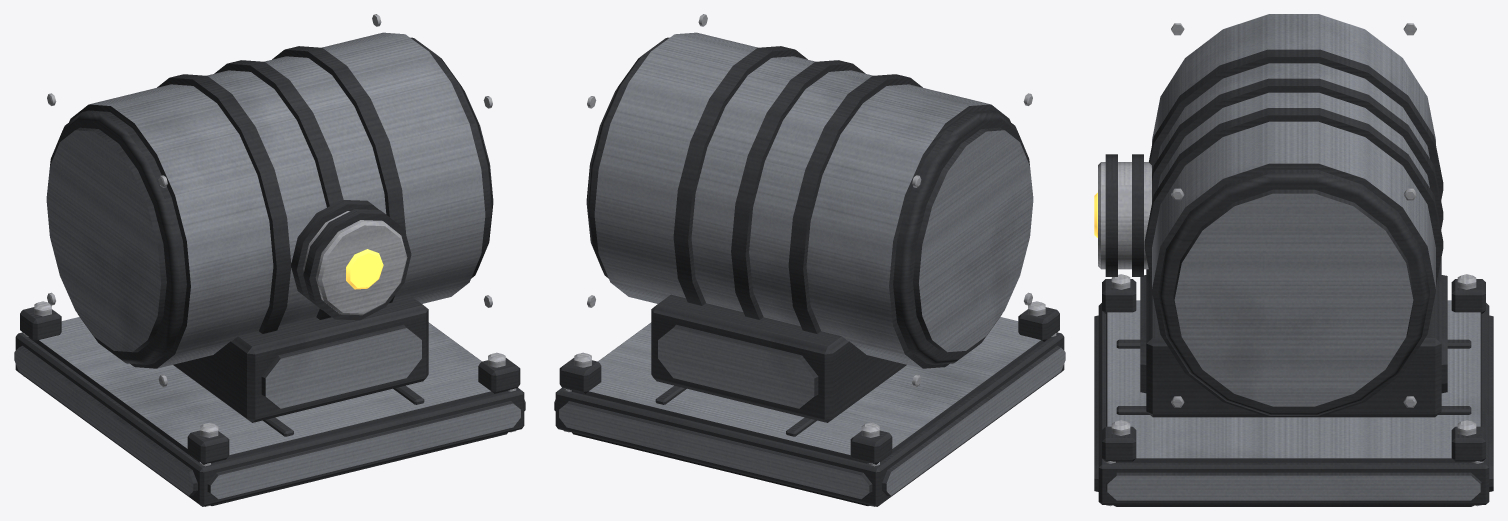
The model's file is R4X_DrivePower.glb.
3 renders of one model, left to right at view 1: azimuth 30°, elevation 25°; view 2: azimuth 150°, elevation 25°; view 3: azimuth 270°, elevation 25°, orthographic. The views are drawn at different scales.
Visible parts, largest first — view 1: R4X_DrivePower_Body; view 2: R4X_DrivePower_Body; view 3: R4X_DrivePower_Body.
Boxes of the visible parts, x1=… form: R4X_DrivePower_Body: x1=14, y1=14, x2=525, y2=506; R4X_DrivePower_Body: x1=554, y1=14, x2=1065, y2=506; R4X_DrivePower_Body: x1=1094, y1=14, x2=1493, y2=506.
Size of the model in its own units: 0.52 by 0.4963 by 0.52.
Materials: 4 (3 with a texture image).
